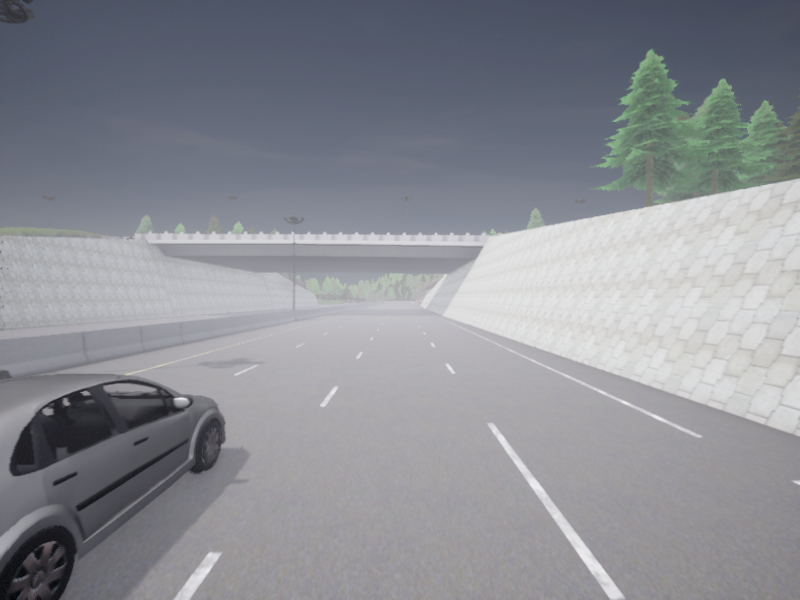vehicle: (0, 375, 225, 599)
